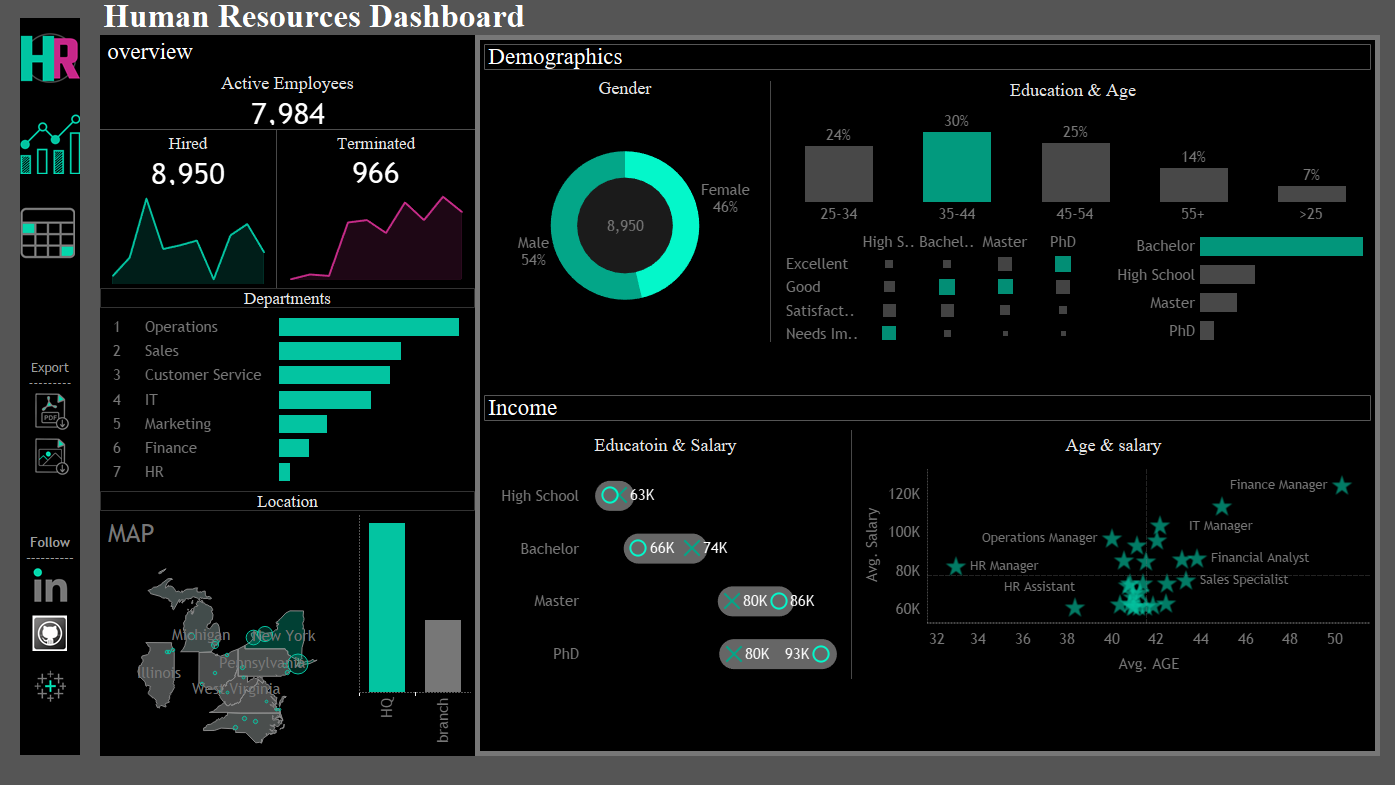

The page's visual inventory and layout, read from the dashboard file:
{"tool":"tableau","page":{"name":"HR Summary","canvas":[1400,800],"ordinal":0},"visuals":[{"type":"text","box":[100,6,686,25]},{"type":"blank","box":[786,6,594,25]},{"type":"image","param":"Image/Logo.png","box":[20,20,60,80]},{"type":"text","box":[100,37,375,34]},{"type":"text","box":[480,42,895,34]},{"type":"text","box":[100,71,375,28]},{"type":"text","box":[480,76,290,28]},{"type":"blank","box":[770,76,1,275]},{"type":"text","box":[771,76,604,32]},{"type":"worksheet","title":"BANK ACTIVE","mark":"Text","box":[100,99,375,32]},{"type":"image","param":"Image/dashboard-summary-active.png","box":[20,100,60,92]},{"type":"worksheet","title":"GENDER","mark":"Pie","cols":["Calculation_1409063761332060166","Calculation_1409063761332060166"],"box":[480,104,290,247]},{"type":"worksheet","title":"AGE GROUPS","mark":"Bar","rows":["Calculation_173388613503008768"],"cols":["Calculation_1409063761341095944"],"box":[776,108,599,122]},{"type":"blank","box":[100,131,375,1]},{"type":"text","box":[100,132,176,27]},{"type":"blank","box":[276,132,1,158]},{"type":"text","box":[277,132,198,27]},{"type":"worksheet","title":"BANK HAIRED","mark":"Text","box":[100,159,176,32]},{"type":"worksheet","title":"BANK TERMINATED","mark":"Text","box":[277,159,198,30]},{"type":"worksheet","title":"TERMINATED BY YEAR","mark":"Line","rows":["Calculation_173388613503827969","Calculation_173388613503827969"],"cols":["Termdate"],"box":[277,189,198,101]},{"type":"worksheet","title":"HIRED BY YEAR","mark":"Line","rows":["Calculation_173388613503008768","Calculation_173388613503008768"],"cols":["Hiredate"],"box":[100,191,176,99]},{"type":"blank","box":[20,192,60,15]},{"type":"image","param":"Image/dashboard-records-inactive.png","box":[20,207,60,55]},{"type":"worksheet","title":"EDUCATION VS PERFORMANCE","mark":"Square","rows":["Performance Rating"],"cols":["Education Level"],"box":[776,230,320,121]},{"type":"worksheet","title":"EDUCATION LEVELS","mark":"Bar","rows":["Education Level"],"cols":["Calculation_173388613503008768"],"box":[1096,230,278.9,121]},{"type":"blank","box":[20,262,60,100]},{"type":"text","box":[100,290,375,20]},{"type":"worksheet","title":"DEPT & JOB TITLES","mark":"Bar","rows":["Calculation_1409063761294839809","Department"],"cols":["Calculation_173388613503008768"],"box":[100,310,375,183]},{"type":"blank","box":[480,351,895,42]},{"type":"text","box":[20,362,60,32]},{"type":"text","box":[480,393,895,34]},{"type":"dashboard-object","box":[20,394,60,38]},{"type":"text","box":[480,427,371,40]},{"type":"blank","box":[851,427,1,259]},{"type":"text","box":[852,427,523,40]},{"type":"blank","box":[20,432,60,7]},{"type":"dashboard-object","box":[20,439,60,38]},{"type":"worksheet","title":"AVG SALARY OF M & F","mark":"Square","rows":["Education Level"],"cols":["Salary","Salary"],"box":[480,467,371,219]},{"type":"worksheet","title":"AGE VS SALARY","mark":"Shape","rows":["Salary"],"cols":["Calculation_1409063761338470407"],"box":[852,467,523,219]},{"type":"blank","box":[20,477,60,60]},{"type":"text","box":[100,493,375,20]},{"type":"worksheet","title":"MAP","mark":"Automatic","box":[100,513,255,245]},{"type":"worksheet","title":"LOCATION","mark":"Bar","rows":["Calculation_173388613503008768"],"cols":["Calculation_1409063761297522690"],"box":[355,513,120,245]},{"type":"text","box":[20,537,60,32]},{"type":"image","param":"Image/contact-linkedin.png","box":[20,569,60,36]},{"type":"blank","box":[20,605,60,12]},{"type":"image","param":"Image/github-logo-png-download-1165978008219wcbnlzya.png","box":[20,617,60,36]},{"type":"image","param":"Image/contact-public.png","box":[30,663,40,50]}]}

Visuals, with their boxes in screenshot pixels (x1, y1, x2, y2):
image: [13, 0, 73, 60]
text: [93, 0, 469, 31]
text: [474, 2, 1372, 36]
text: [93, 31, 469, 59]
text: [474, 36, 765, 64]
blank: [765, 36, 766, 312]
text: [766, 36, 1372, 68]
"BANK ACTIVE" worksheet (Text marks): [93, 59, 469, 91]
image: [13, 60, 73, 153]
"GENDER" worksheet (Pie marks): [474, 64, 765, 312]
"AGE GROUPS" worksheet (Bar marks): [771, 68, 1372, 191]
blank: [93, 91, 469, 92]
text: [93, 92, 270, 119]
blank: [270, 92, 271, 251]
text: [271, 92, 469, 119]
"BANK HAIRED" worksheet (Text marks): [93, 119, 270, 152]
"BANK TERMINATED" worksheet (Text marks): [271, 119, 469, 150]
"TERMINATED BY YEAR" worksheet (Line marks): [271, 150, 469, 251]
"HIRED BY YEAR" worksheet (Line marks): [93, 152, 270, 251]
blank: [13, 153, 73, 168]
image: [13, 168, 73, 223]
"EDUCATION VS PERFORMANCE" worksheet (Square marks): [771, 191, 1092, 312]
"EDUCATION LEVELS" worksheet (Bar marks): [1092, 191, 1372, 312]
blank: [13, 223, 73, 323]
text: [93, 251, 469, 271]
"DEPT & JOB TITLES" worksheet (Bar marks): [93, 271, 469, 454]
blank: [474, 312, 1372, 354]
text: [13, 323, 73, 355]
text: [474, 354, 1372, 388]
dashboard-object: [13, 355, 73, 393]
text: [474, 388, 846, 428]
blank: [846, 388, 847, 648]
text: [847, 388, 1372, 428]
blank: [13, 393, 73, 400]
dashboard-object: [13, 400, 73, 438]
"AVG SALARY OF M & F" worksheet (Square marks): [474, 428, 846, 648]
"AGE VS SALARY" worksheet (Shape marks): [847, 428, 1372, 648]
blank: [13, 438, 73, 499]
text: [93, 454, 469, 475]
"MAP" worksheet: [93, 475, 349, 720]
"LOCATION" worksheet (Bar marks): [349, 475, 469, 720]
text: [13, 499, 73, 531]
image: [13, 531, 73, 567]
blank: [13, 567, 73, 579]
image: [13, 579, 73, 615]
image: [23, 625, 63, 675]
